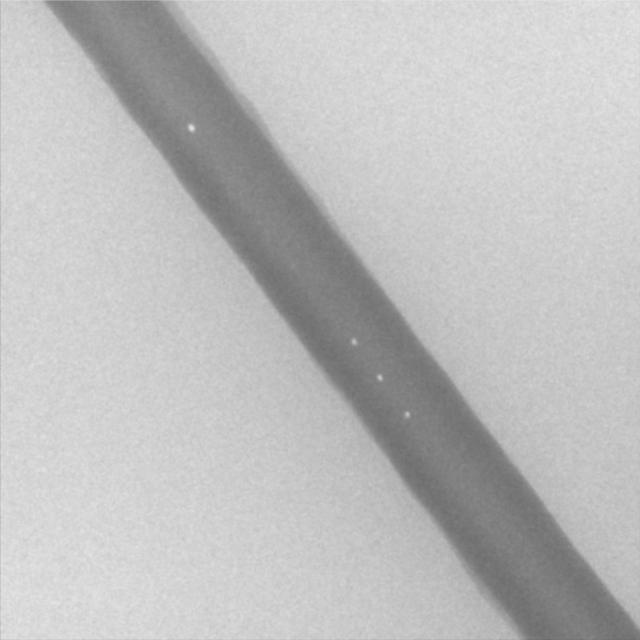air hole: (185, 121, 195, 133), (374, 372, 383, 382), (350, 336, 358, 346), (403, 410, 410, 419)
